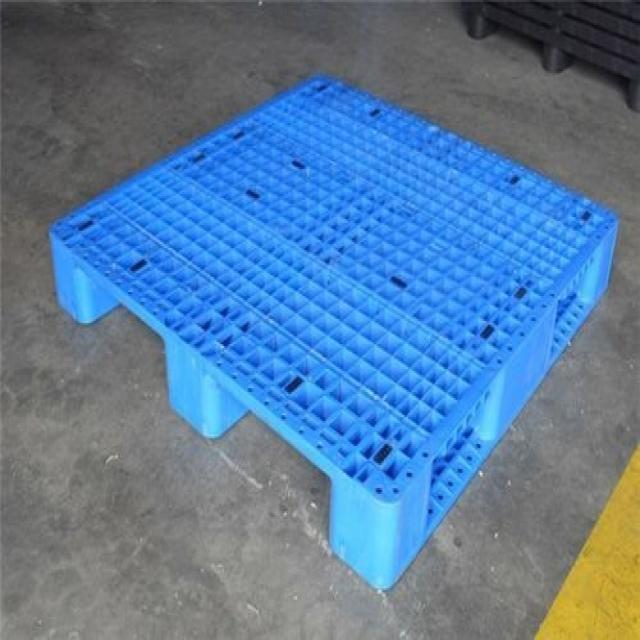pallet: (47, 68, 626, 607)
